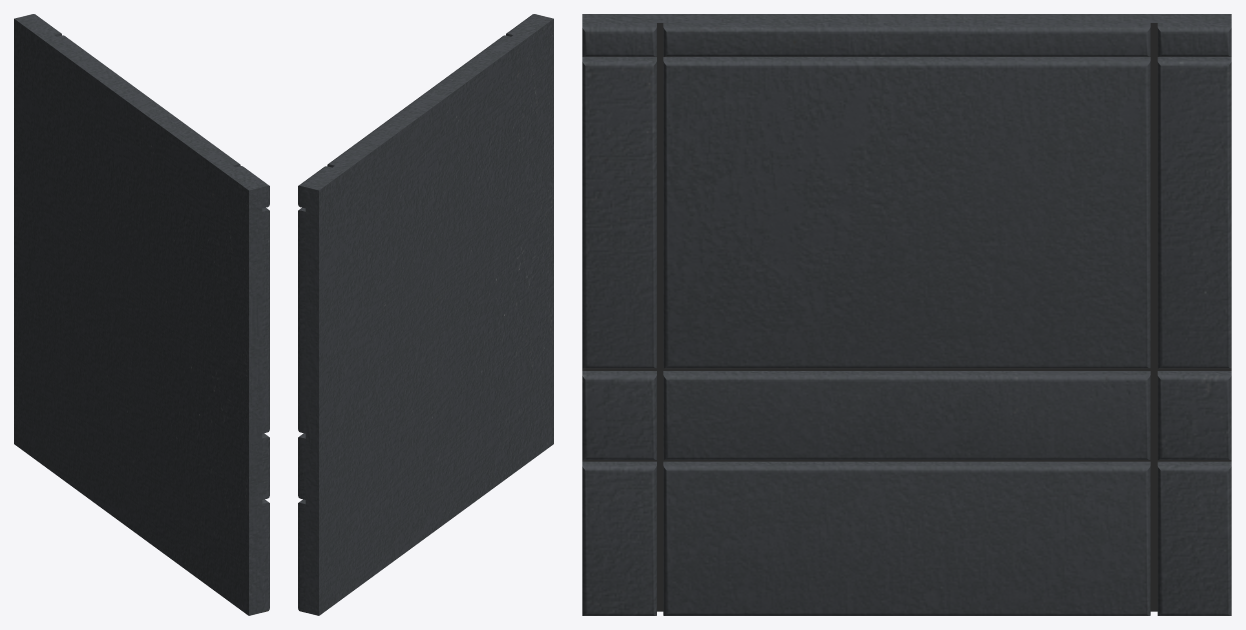
File: ParedPierda3.fbx
The picture shows the model from 3 angles, left to right: view 1: azimuth 30°, elevation 25°; view 2: azimuth 150°, elevation 25°; view 3: azimuth 270°, elevation 25°; orthographic projection. The views are drawn at different scales.
Parts seen in each view (by area): view 1: Cube.002; view 2: Cube.002; view 3: Cube.002.
Boxes of the visible parts, x1,y1,x2,y2 form: Cube.002: (14, 14, 269, 615); Cube.002: (298, 14, 553, 615); Cube.002: (582, 14, 1231, 615).
Bounding box in the file's own units: 13.71 × 248 × 248.
